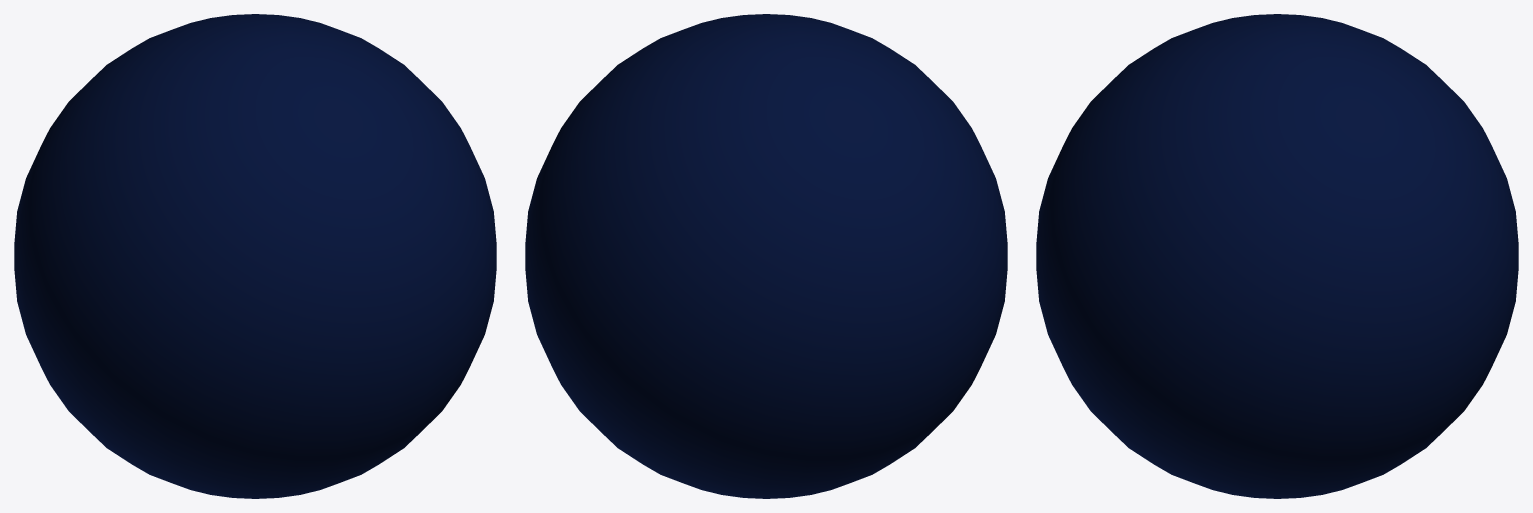
Rendered from ball.obj.
3 views of the same model, side by side, from view 1: azimuth 30°, elevation 25°; view 2: azimuth 150°, elevation 25°; view 3: azimuth 270°, elevation 25° (orthographic).
Bounding box in the file's own units: 2 × 2 × 1.99.
